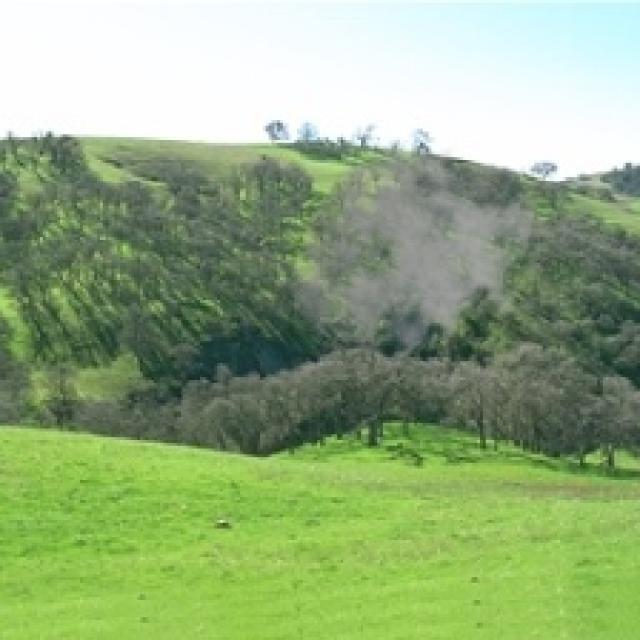smoke: (289, 137, 537, 377)
